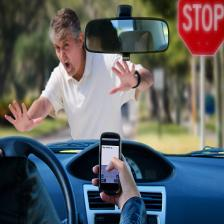Stop-sign: (176, 0, 224, 57)
